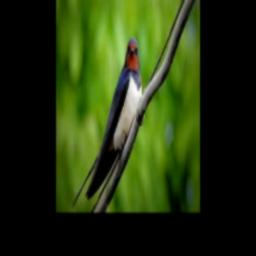Swallow: (71, 36, 142, 209)
